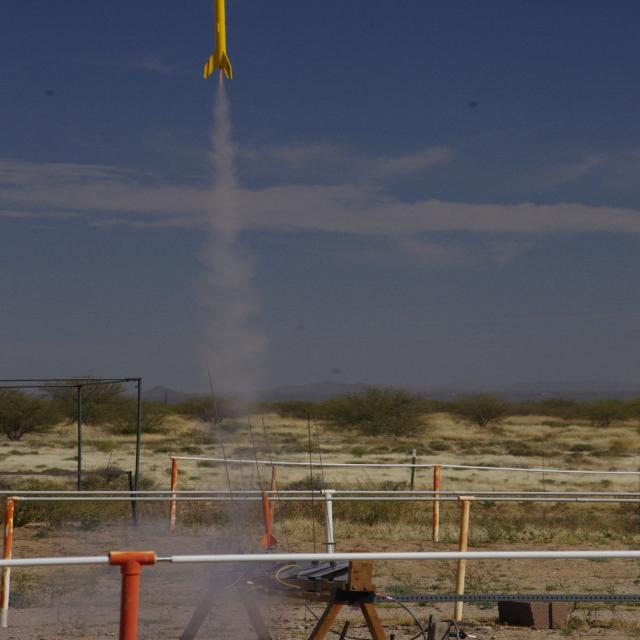Rocket: (203, 0, 233, 80), (259, 489, 279, 547)
